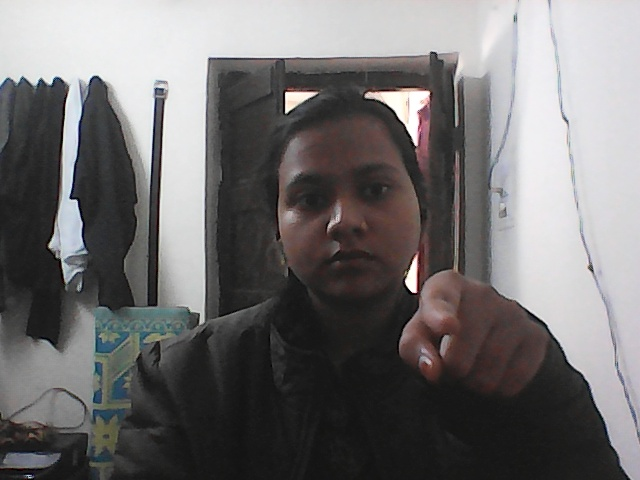You: (367, 237, 559, 421)
